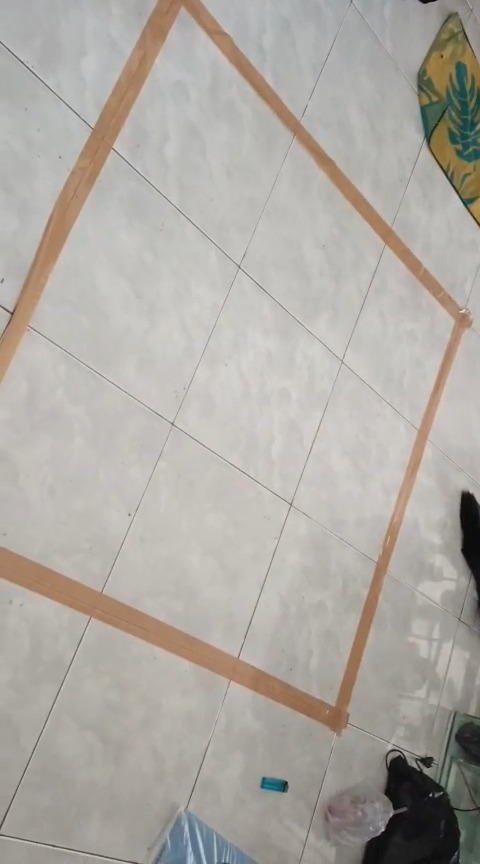floor marking: (1, 0, 471, 733)
